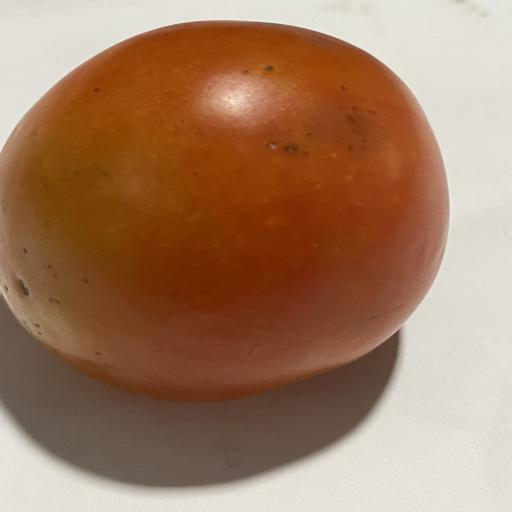ripe: (0, 21, 448, 401)
